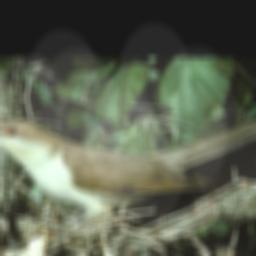Cuckoo: (0, 93, 256, 222)
